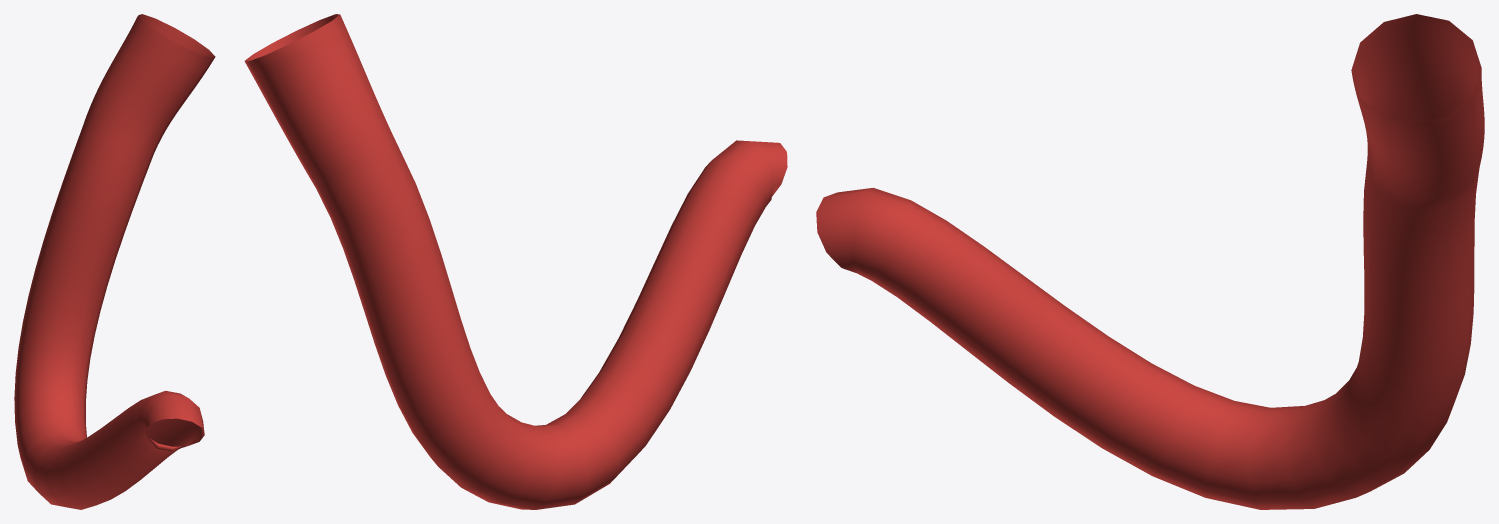
The picture shows the model from 3 angles, left to right: view 1: azimuth 30°, elevation 25°; view 2: azimuth 150°, elevation 25°; view 3: azimuth 270°, elevation 25°; orthographic projection. The views are drawn at different scales.
Parts seen in each view (by area): view 1: 左侧大脑前动脉; view 2: 左侧大脑前动脉; view 3: 左侧大脑前动脉.
Part boxes in pixels (left/top/right/bottom): 左侧大脑前动脉: left=14, top=14, right=215, bottom=509; 左侧大脑前动脉: left=244, top=14, right=787, bottom=509; 左侧大脑前动脉: left=816, top=14, right=1484, bottom=509.
Bounding box in the file's own units: 0.0144 × 0.0221 × 0.0227.
